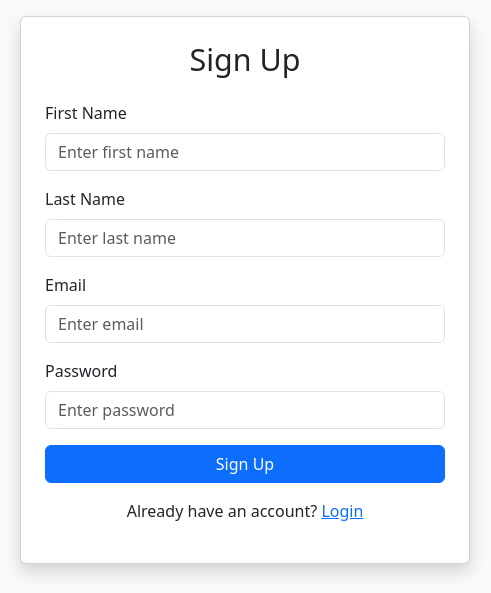
it: App routing › navigates between signup and login
Click the link "Login": (342, 511) top-left (321, 500), bottom-right (363, 522)
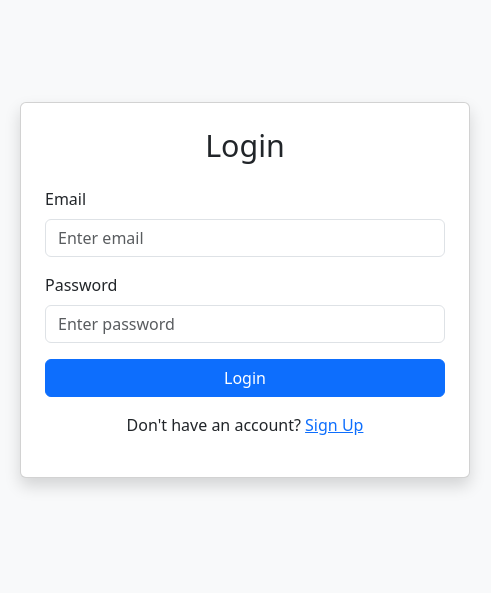
Expected: the heading "Login" is shown, top-left (205, 124), bottom-right (285, 166)
Click the link "Sign Up": (334, 425) top-left (305, 414), bottom-right (363, 436)
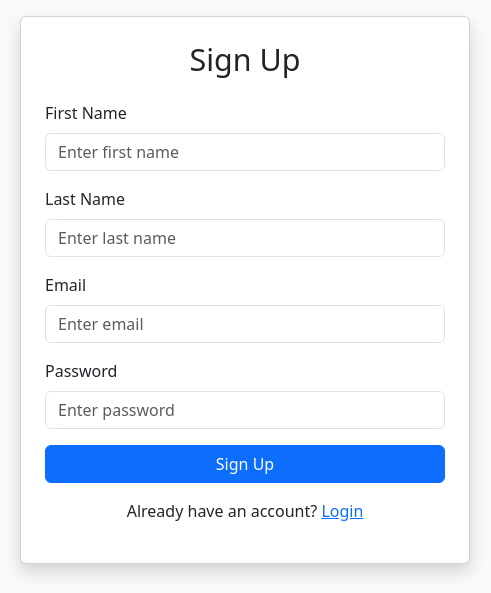
Expected: the heading "Sign Up" is shown, top-left (190, 38), bottom-right (300, 80)
